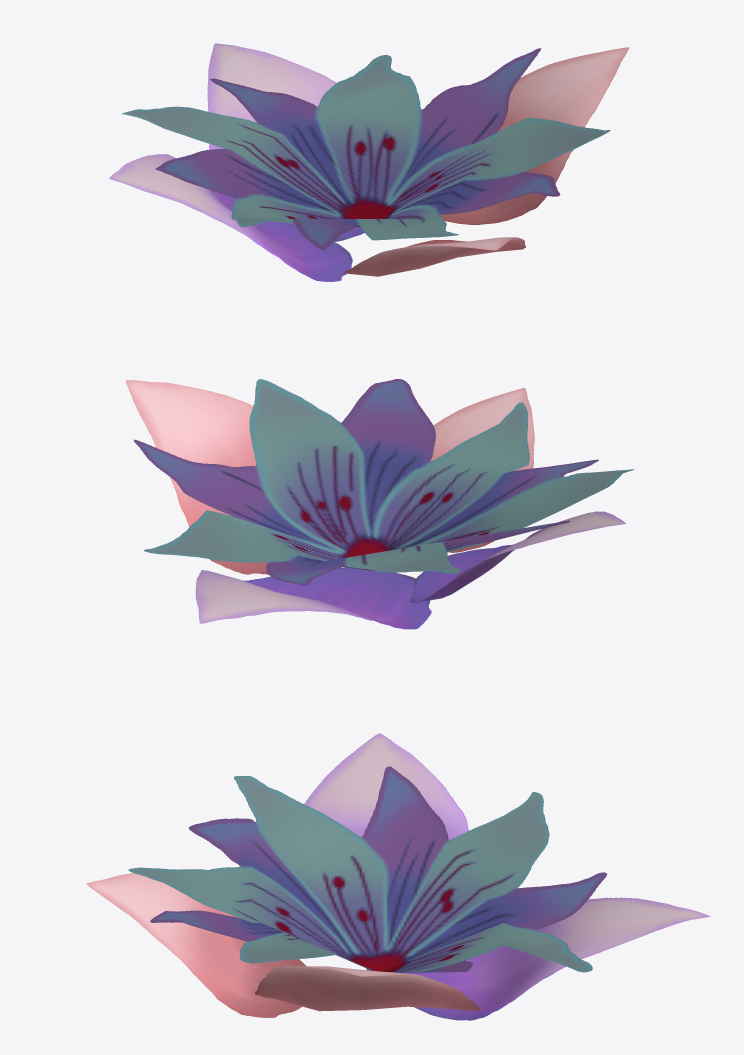
Rendered from FlorPequeña.fbx.
3 views of the same model, one above another, from view 1: azimuth 30°, elevation 25°; view 2: azimuth 150°, elevation 25°; view 3: azimuth 270°, elevation 25° (orthographic). The views are drawn at different scales.
Parts seen in each view (by area): view 1: Flor1; view 2: Flor1; view 3: Flor1.
Part boxes in pixels (x1,y1,x2,y2): Flor1: [109, 43, 629, 281]; Flor1: [125, 379, 634, 629]; Flor1: [86, 733, 709, 1020].
Size of the model in its own units: 42 by 9.57 by 42.23.
